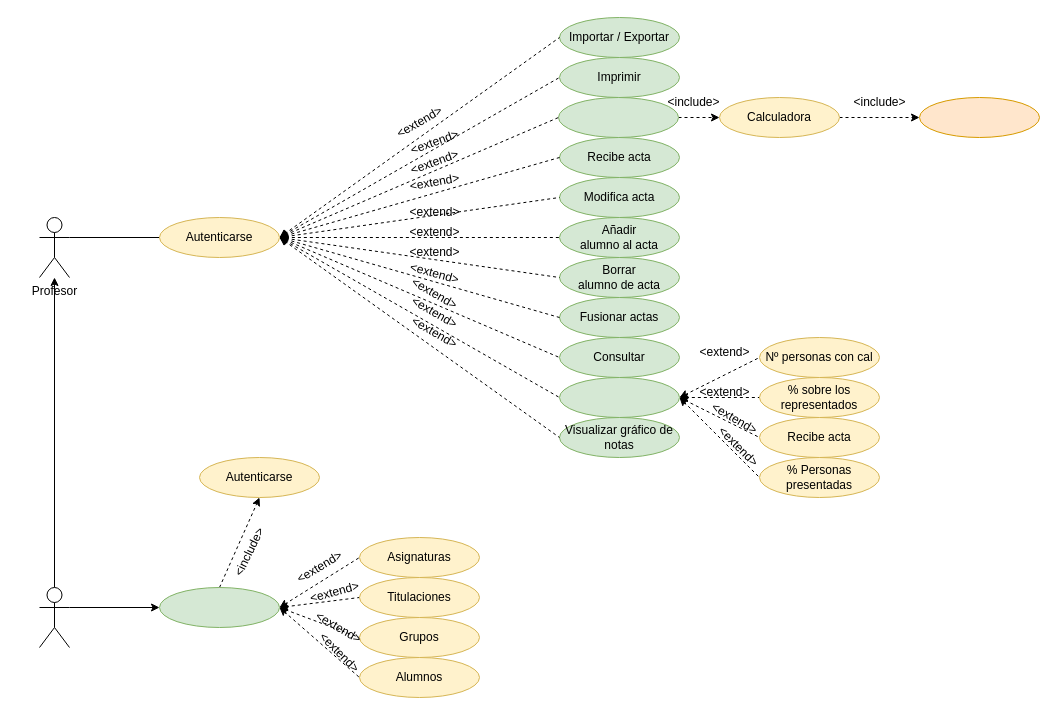
The diagram is 1057 pixels wide and 715 high, and some of its shapes have lost their labels. Here are the shapes that lost their labels. From the top down, the centre of each, then its label:
At point 618,117: "Introducir notas".
At point 979,117: "Volcar resultado".
At point 619,397: "Obtener estadística".
At point 54,617: "Administrador".
At point 219,607: "Realizar acciones de CRUD".
